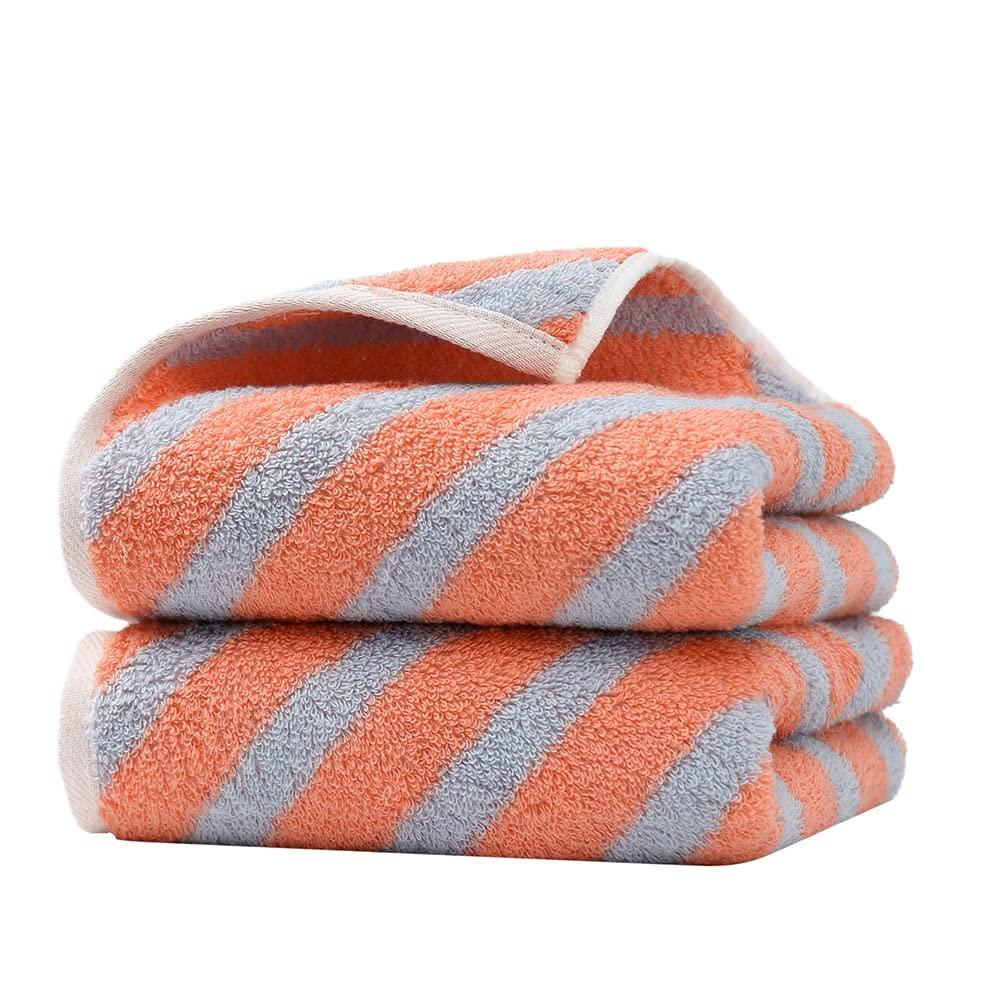Towel: (43, 170, 893, 900)
